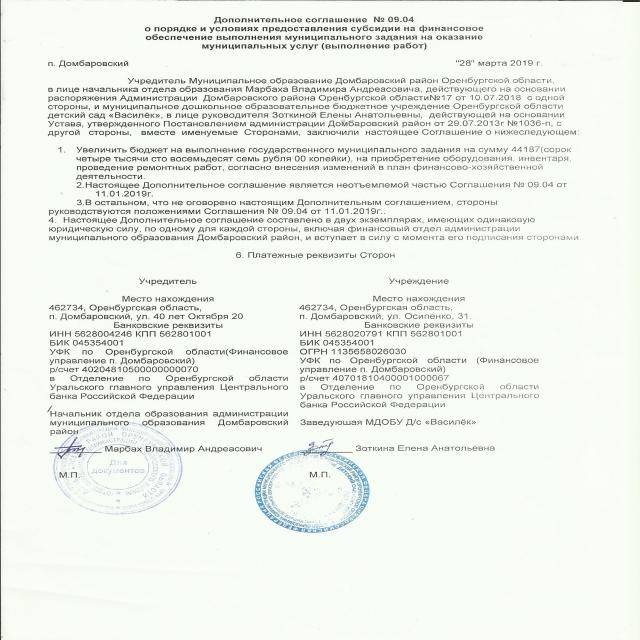stamps: (226, 436, 393, 538), (43, 407, 179, 523)
